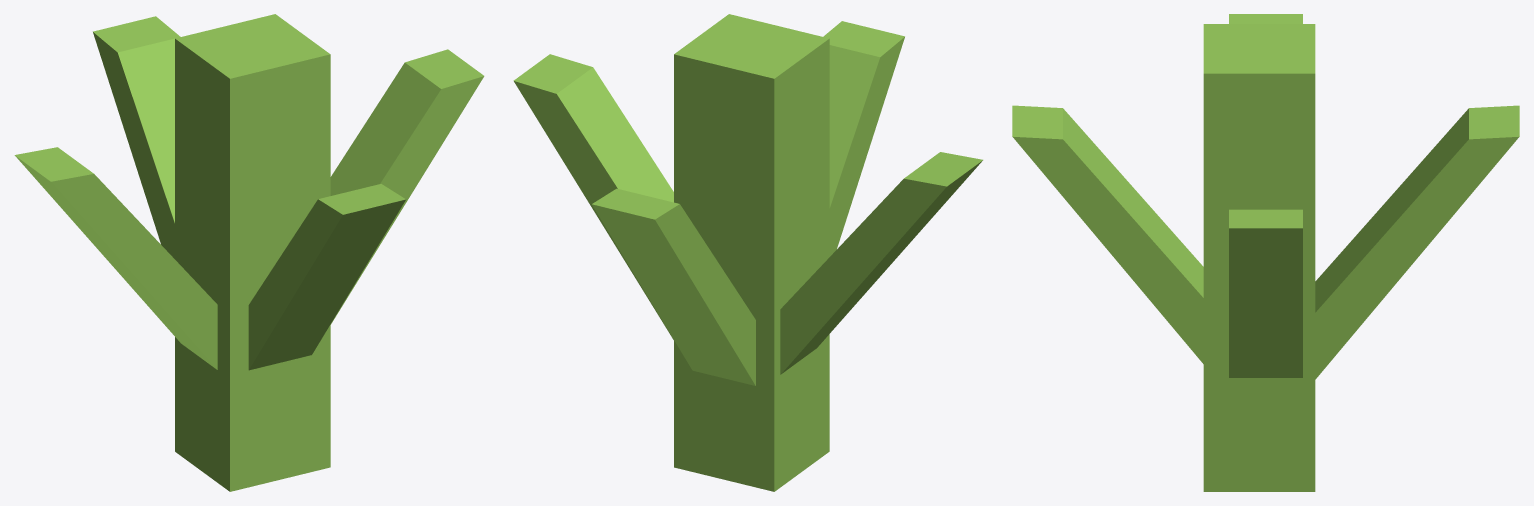
Rendered from herb6.fbx.
3 views of the same model, side by side, from view 1: azimuth 30°, elevation 25°; view 2: azimuth 150°, elevation 25°; view 3: azimuth 270°, elevation 25° (orthographic).
Visible parts, largest first — view 1: Cube_8; view 2: Cube_8; view 3: Cube_8.
Boxes of the visible parts, x1,y1,x2,y2 form: Cube_8: [14, 14, 484, 491]; Cube_8: [513, 14, 982, 491]; Cube_8: [1012, 14, 1519, 491].
Bounding box in the file's own units: 26.69 × 24.3 × 26.69.
